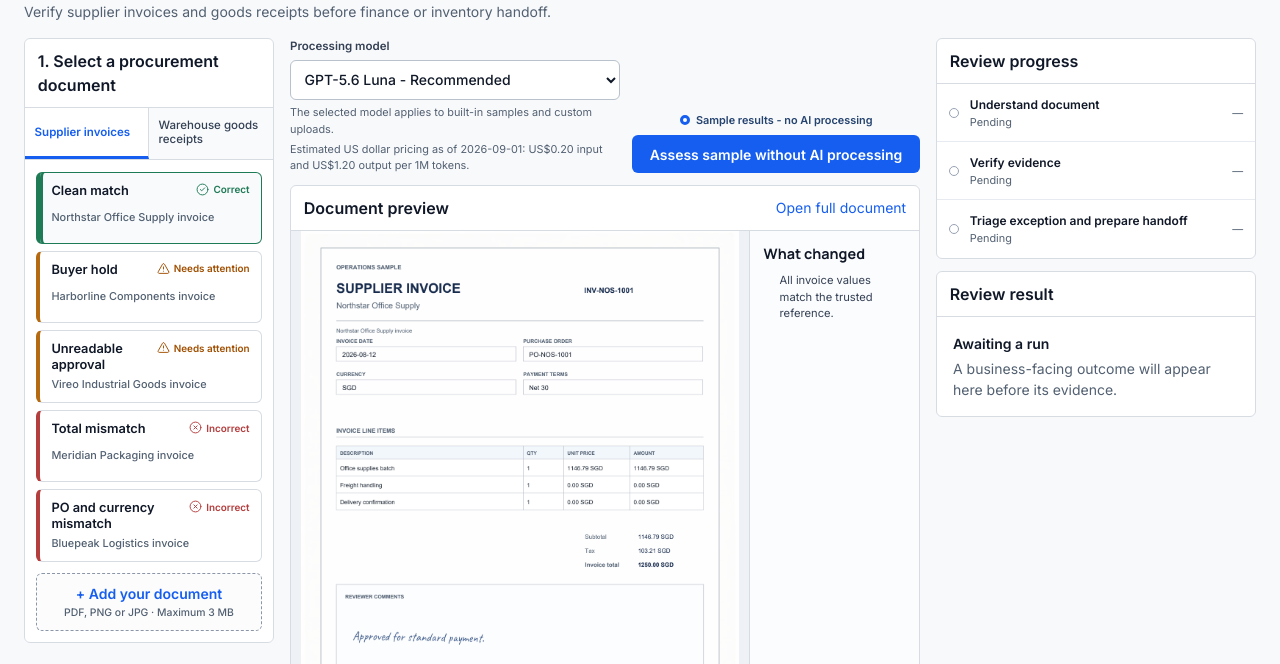
Test case: Workbench request lifecycle › marks the active grouped stage failed after a terminal failure
Click the button "Assess sample without AI processing" at x=776, y=154, box [632, 135, 920, 173]
(page scrolled)
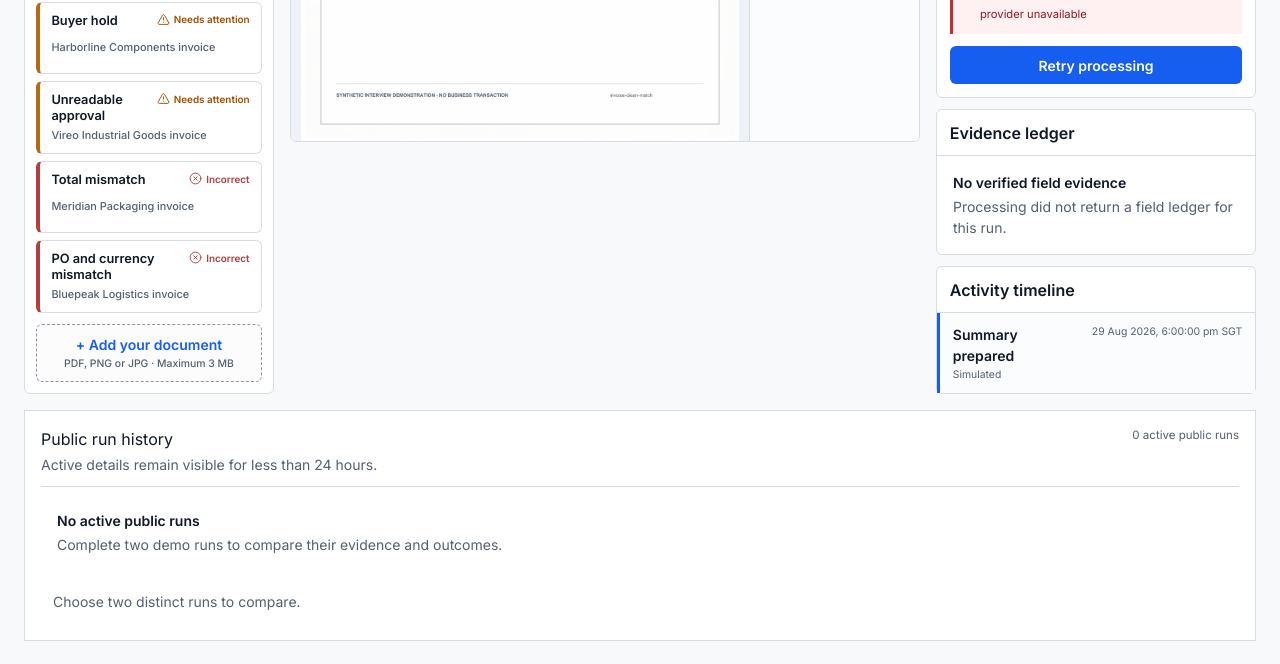
Check: the list item "provider unavailable" is shown, box [980, 7, 1087, 21]
Check: the buttons read "Retry processing", in this order, box [950, 46, 1242, 84]
Check: the text "Summary prepared" is shown, box [953, 326, 1018, 364]
